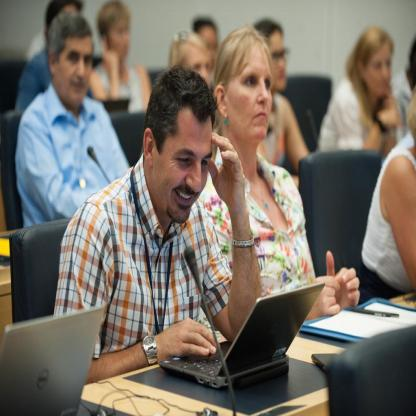board: (158, 281, 327, 389), (9, 294, 100, 411)
